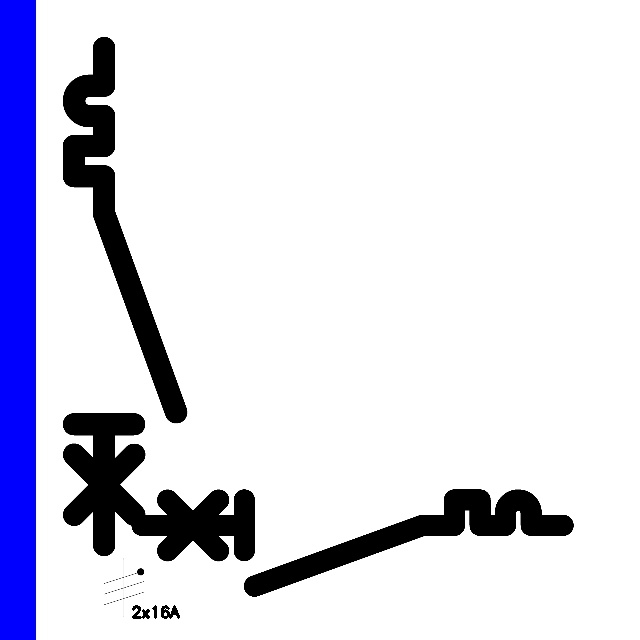interruptor_termomagnetico: (61, 35, 189, 558), (131, 489, 574, 597)
